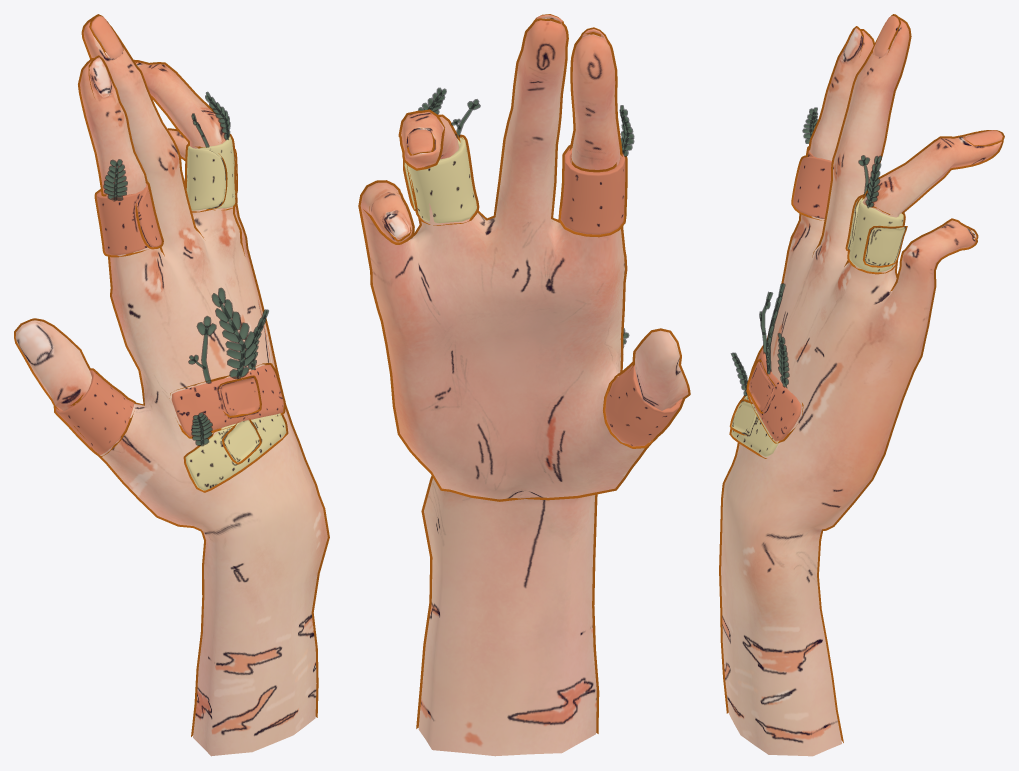
File: hand.glb
The picture shows the model from 3 angles, left to right: view 1: azimuth 30°, elevation 25°; view 2: azimuth 150°, elevation 25°; view 3: azimuth 270°, elevation 25°; orthographic projection. The views are drawn at different scales.
Visible parts, largest first — view 1: Object_4, Object_5, Object_6, Object_2, Object_3; view 2: Object_4, Object_5, Object_6, Object_2, Object_3; view 3: Object_4, Object_5, Object_6, Object_2, Object_3.
Part boxes in pixels (x1,y1,x2,y2): Object_4: (15,16,327,756); Object_5: (56,136,286,490); Object_6: (14,14,329,736); Object_2: (103,91,268,446); Object_3: (104,92,267,445); Object_4: (360,14,688,756); Object_5: (404,137,682,446); Object_6: (358,14,690,733); Object_2: (418,87,634,347); Object_3: (419,89,633,343); Object_4: (721,15,1002,756); Object_5: (731,150,905,456); Object_6: (719,14,1004,742); Object_2: (731,107,881,396); Object_3: (732,108,880,395).
Bounding box in the file's own units: 0.3606 × 0.9038 × 0.3503.
Materials: 5 (2 with a texture image).
